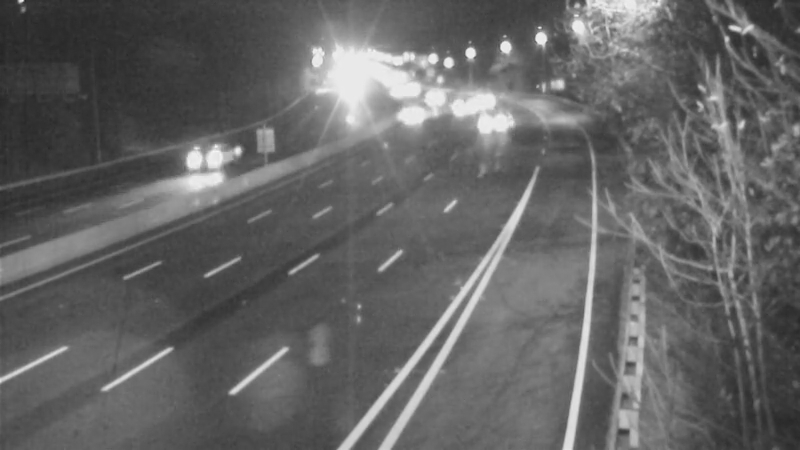vehicle: (171, 118, 251, 198), (369, 64, 419, 114), (407, 71, 457, 121), (454, 75, 504, 125), (439, 82, 489, 132), (389, 89, 439, 139), (464, 99, 514, 149)
